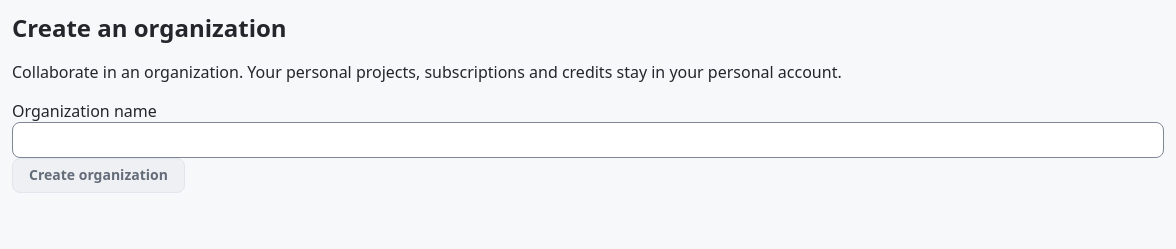
Scenario: verified workspace creation › creates only the chosen name and requires current identity readback before confirming
The width and height of the screenshot is (1176, 249).
Type "Example" into the field labelled "Organization name" at [588, 140], box [12,122,1164,158]
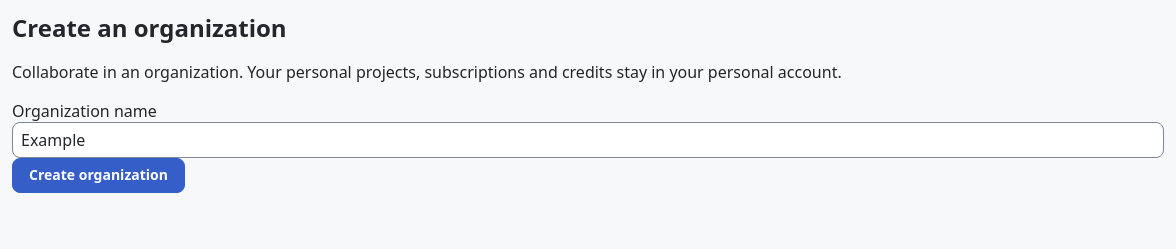
Click the button "Create organization" at [98, 176], box [12,158,185,193]
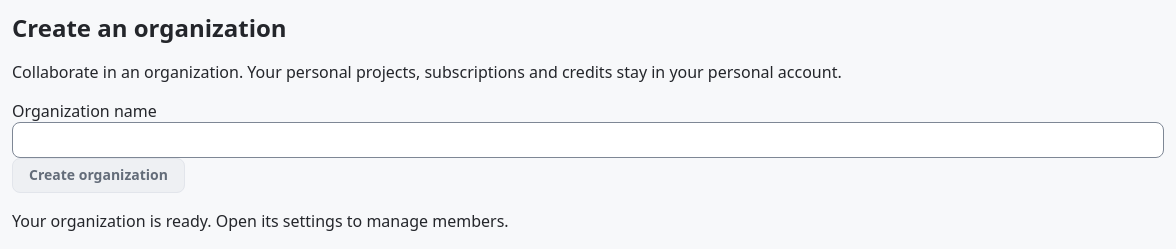
Now the text "Your organization is ready. Open its settings to manage members." is shown, box [12,210,509,232]
Now the field labelled "Organization name" is empty, box [12,122,1164,158]
